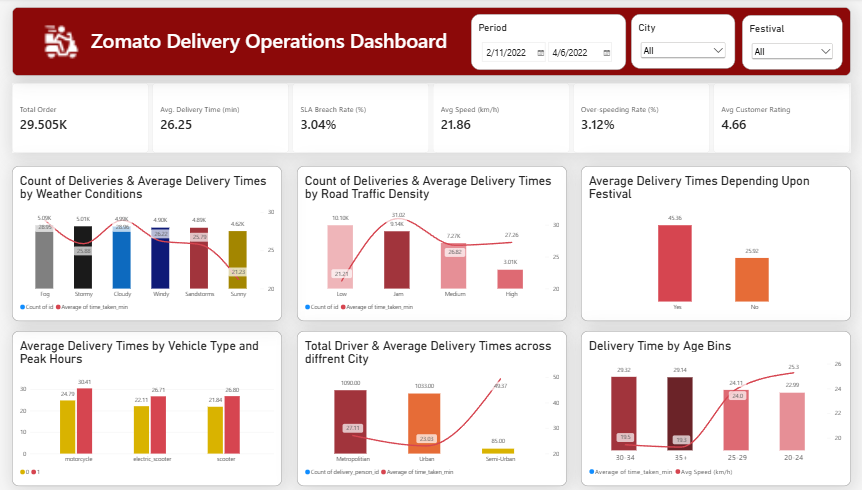

The page's visual inventory and layout, read from the dashboard file:
{"tool":"powerbi","page":{"name":"Page 1","canvas":[1920,1080],"ordinal":0},"visuals":[{"type":"cardVisual","title":"Social Media Funnel","fields":{"Data":["CountNonNull(zomato_cleaned_data.id)","Avg(zomato_cleaned_data.time_taken_min)","zomato_cleaned_data.SLA Breach Rate (%)","zomato_cleaned_data.Avg Speed (km/h)","zomato_cleaned_data.Over-speeding Rate (%)","zomato_cleaned_data.Avg Customer Rating"]},"box":[51.8,183.6,1812.2,151.2],"z":0},{"type":"lineStackedColumnComboChart","title":"Count of Deliveries & Average Delivery Times by Road Traffic Density","fields":{"Category":["zomato_cleaned_data.road_traffic_density"],"Y":["CountNonNull(zomato_cleaned_data.id)"],"Y2":["Avg(zomato_cleaned_data.time_taken_min)"]},"box":[667.4,362.9,583.2,334.8],"z":1000},{"type":"lineStackedColumnComboChart","title":"Average Delivery Times Depending Upon Festival","fields":{"Category":["zomato_cleaned_data.festival"],"Y":["Avg(zomato_cleaned_data.time_taken_min)"]},"box":[1280.9,362.9,583.2,334.8],"z":2000},{"type":"clusteredColumnChart","title":"Average Delivery Times by Vehicle Type and Peak Hours","fields":{"Category":["zomato_cleaned_data.type_of_vehicle"],"Series":["zomato_cleaned_data.peak_hours"],"Y":["Avg(zomato_cleaned_data.time_taken_min)"]},"box":[51.8,719.3,583.2,334.8],"z":3000},{"type":"lineClusteredColumnComboChart","title":"Total Driver & Average Delivery Times across diffrent City","fields":{"Category":["zomato_cleaned_data.city"],"Y":["Count(zomato_cleaned_data.delivery_person_id)"],"Y2":["Avg(zomato_cleaned_data.time_taken_min)"]},"box":[667.4,719.3,583.2,334.8],"z":4000},{"type":"shape","box":[51.8,19.4,1812.2,149],"z":5000},{"type":"textbox","box":[222.5,62.6,1006.6,64.8],"z":6000},{"type":"slicer","title":"Period","fields":{"Values":["zomato_cleaned_data.order_date"]},"box":[1043.1,33.8,335.1,120.9],"z":7000},{"type":"slicer","title":"City","fields":{"Values":["zomato_cleaned_data.city"]},"box":[1389.2,33.8,224.6,118.5],"z":8000},{"type":"image","box":[112.3,51.8,92.9,86.4],"z":9000},{"type":"lineStackedColumnComboChart","title":"Delivery Time by Age Bins","fields":{"Category":["zomato_cleaned_data.age_bins"],"Y":["Avg(zomato_cleaned_data.time_taken_min)"],"Y2":["zomato_cleaned_data.Avg Speed (km/h)"]},"box":[1280.9,719.3,583.2,334.8],"z":10000},{"type":"lineStackedColumnComboChart","title":"Count of Deliveries & Average Delivery Times by Weather Conditions","fields":{"Category":["zomato_cleaned_data.weather_conditions"],"Y":["CountNonNull(zomato_cleaned_data.id)"],"Y2":["Avg(zomato_cleaned_data.time_taken_min)"]},"box":[51.8,362.9,583.2,334.8],"z":11000},{"type":"slicer","title":"Festival","fields":{"Values":["zomato_cleaned_data.festival"]},"box":[1627.7,36.9,216.9,118.5],"z":11001}]}

Visuals, with their boxes in screenshot pixels (x1, y1, x2, y2), scaled from the page's 1920x1080 canvas onto the 862x490 screenshot:
"Social Media Funnel" cardVisual: detection(23, 83, 837, 152)
"Count of Deliveries & Average Delivery Times by Road Traffic Density" lineStackedColumnComboChart: detection(300, 165, 561, 317)
"Average Delivery Times Depending Upon Festival" lineStackedColumnComboChart: detection(575, 165, 837, 317)
"Average Delivery Times by Vehicle Type and Peak Hours" clusteredColumnChart: detection(23, 326, 285, 478)
"Total Driver & Average Delivery Times across diffrent City" lineClusteredColumnComboChart: detection(300, 326, 561, 478)
shape: detection(23, 9, 837, 76)
textbox: detection(100, 28, 552, 58)
"Period" slicer: detection(468, 15, 619, 70)
"City" slicer: detection(624, 15, 725, 69)
image: detection(50, 24, 92, 63)
"Delivery Time by Age Bins" lineStackedColumnComboChart: detection(575, 326, 837, 478)
"Count of Deliveries & Average Delivery Times by Weather Conditions" lineStackedColumnComboChart: detection(23, 165, 285, 317)
"Festival" slicer: detection(731, 17, 828, 71)
